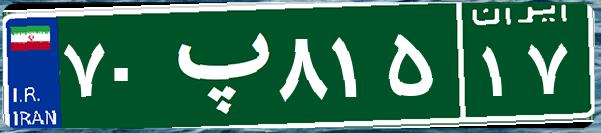0: (110, 28, 158, 105)
1: (330, 28, 385, 110), (475, 38, 525, 113)
5: (385, 28, 445, 110)
7: (57, 26, 110, 107), (525, 38, 570, 115)
8: (273, 28, 330, 110)
پ: (158, 15, 273, 115)
